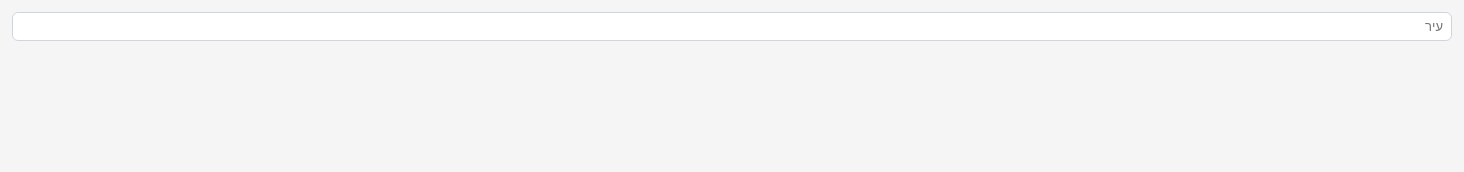
Combobox › shows empty text when no options match
Type "zzz" into the dropdown with placeholder "עיר". click: (732, 26)
box: [12,12,1452,41]
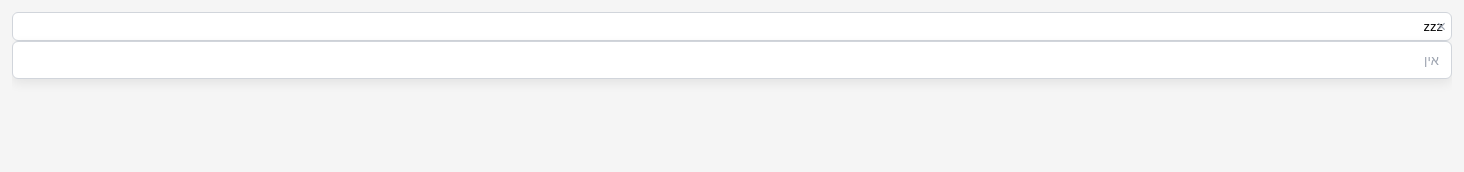
Result: the list item "אין" is shown at [1424,52,1439,68]
